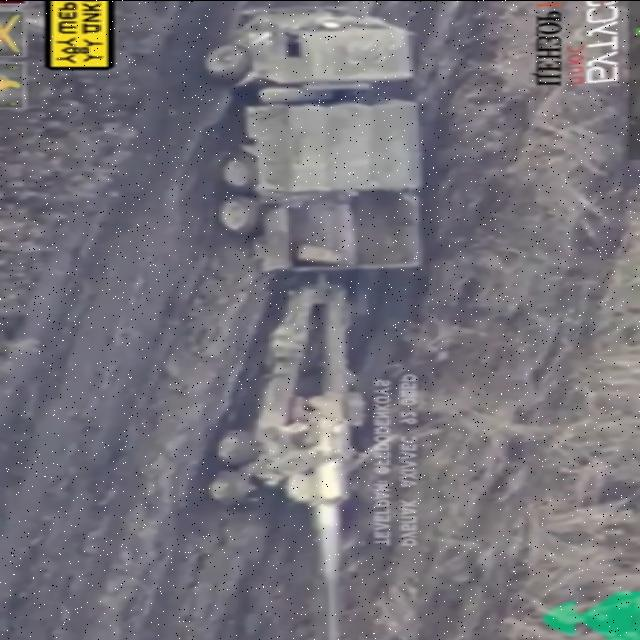ART: (210, 282, 373, 640)
TRUCK: (205, 9, 435, 275)
